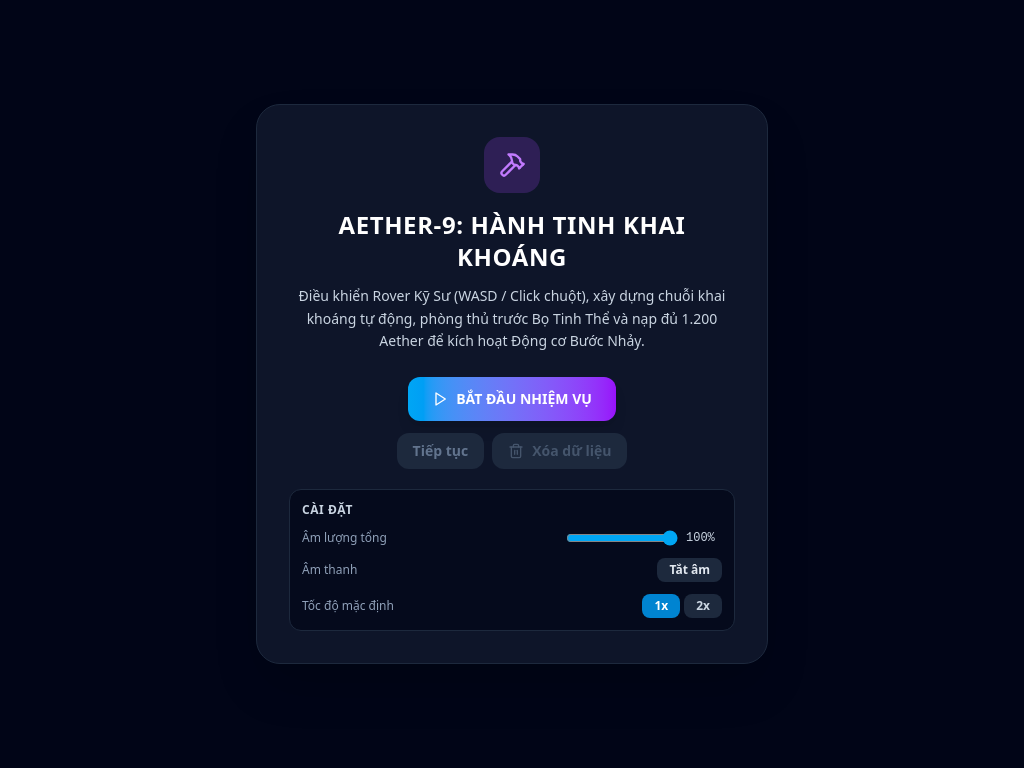
Test: AetherGame: persisted settings and tutorial › shows four tutorial steps once and remembers dismissal
The width and height of the screenshot is (1024, 768).
Later steps or results of the test are not shown.
Click the button "BẮT ĐẦU NHIỆM VỤ": (512, 399) [408,377,616,421]
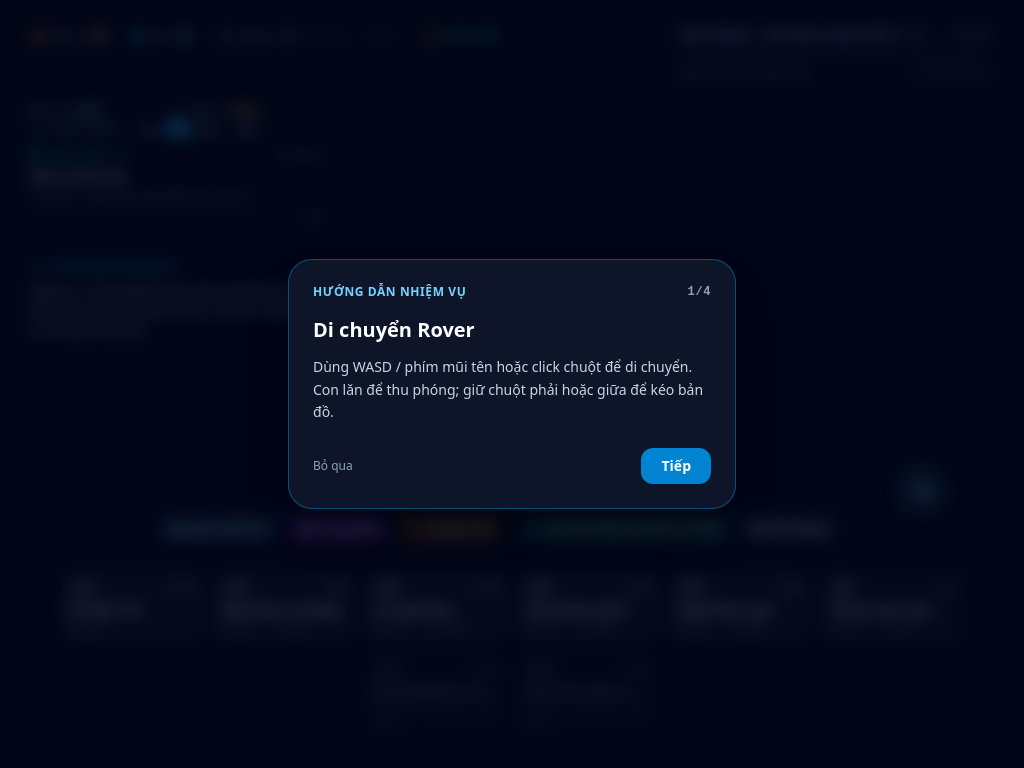
expect the heading "Di chuyển Rover" is shown: met, box [313,316,475,343]
Click the button "Tiếp": (676, 466) [642,448,711,484]
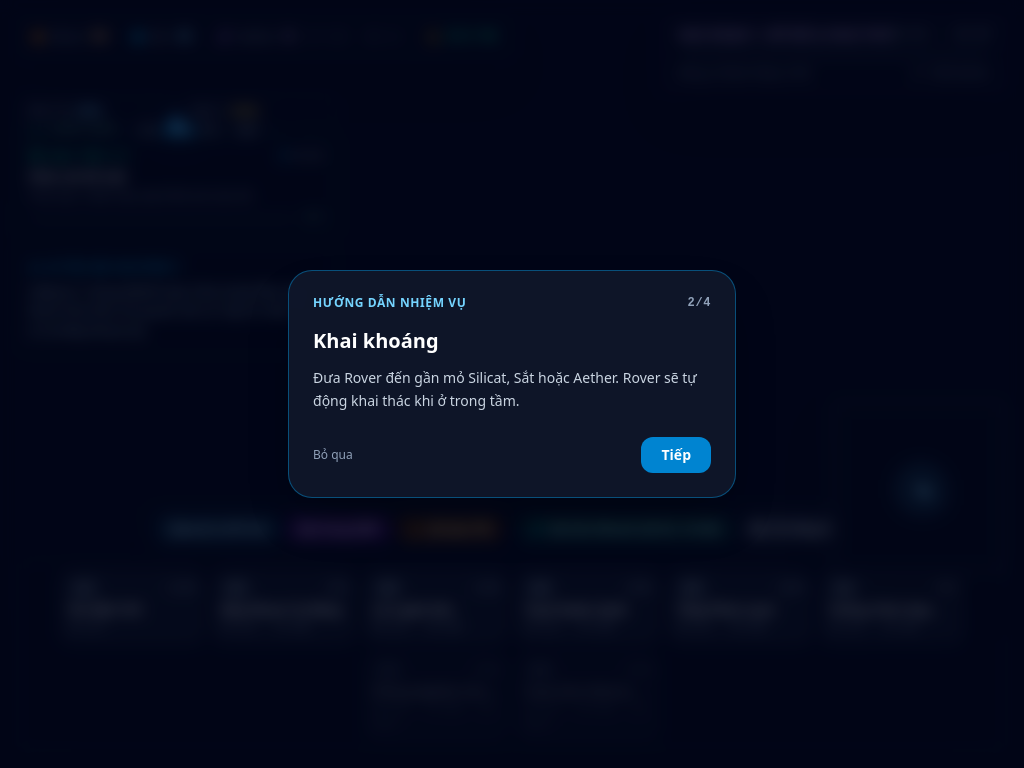
expect the heading "Khai khoáng" is shown: met, box [313,327,439,354]
Click the button "Tiếp": (676, 455) [642,437,711,473]
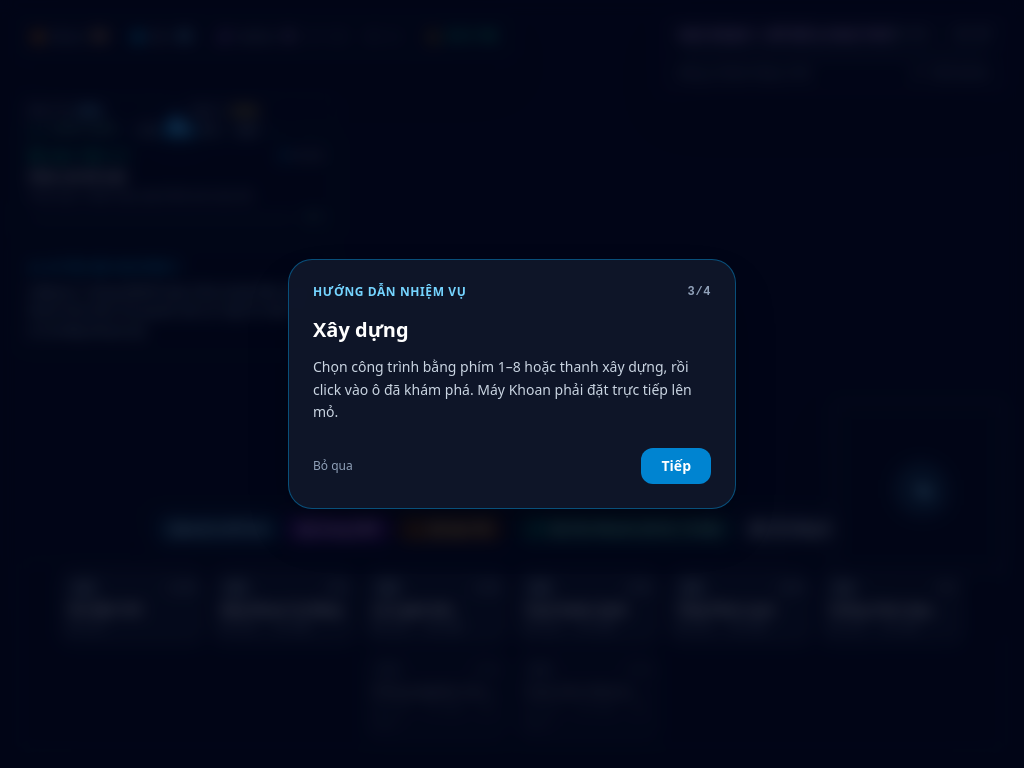
expect the heading "Xây dựng" is shown: met, box [313,316,409,343]
Click the button "Tiếp": (676, 466) [642,448,711,484]
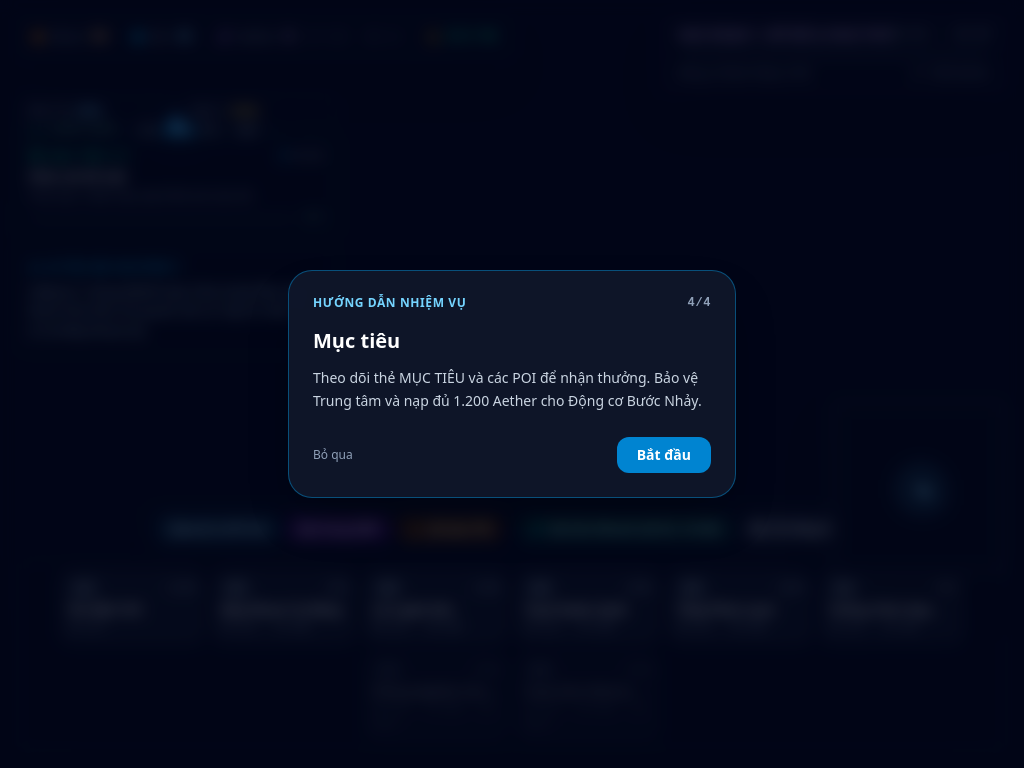
expect the heading "Mục tiêu" is shown: met, box [313,327,400,354]
